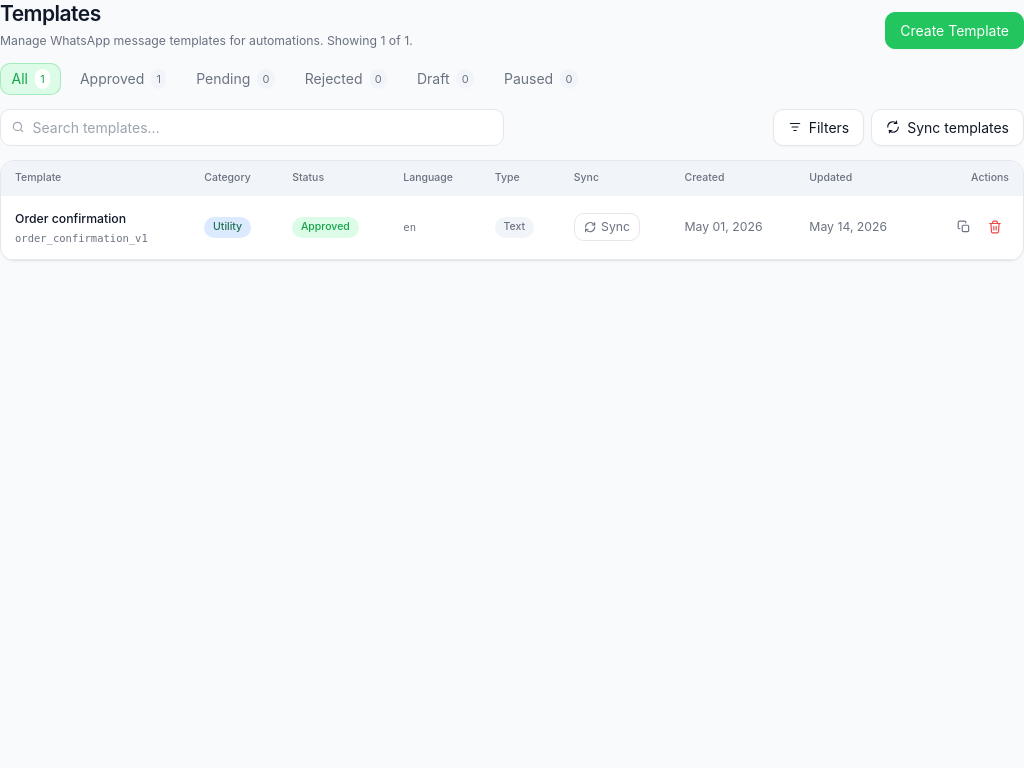
opens template details in a modal when a template row is clicked
What coordinates should you click on to do the following:
click the text "Order confirmation"
I would click on:
 (70, 218)
Its box is [15,210,126,226].
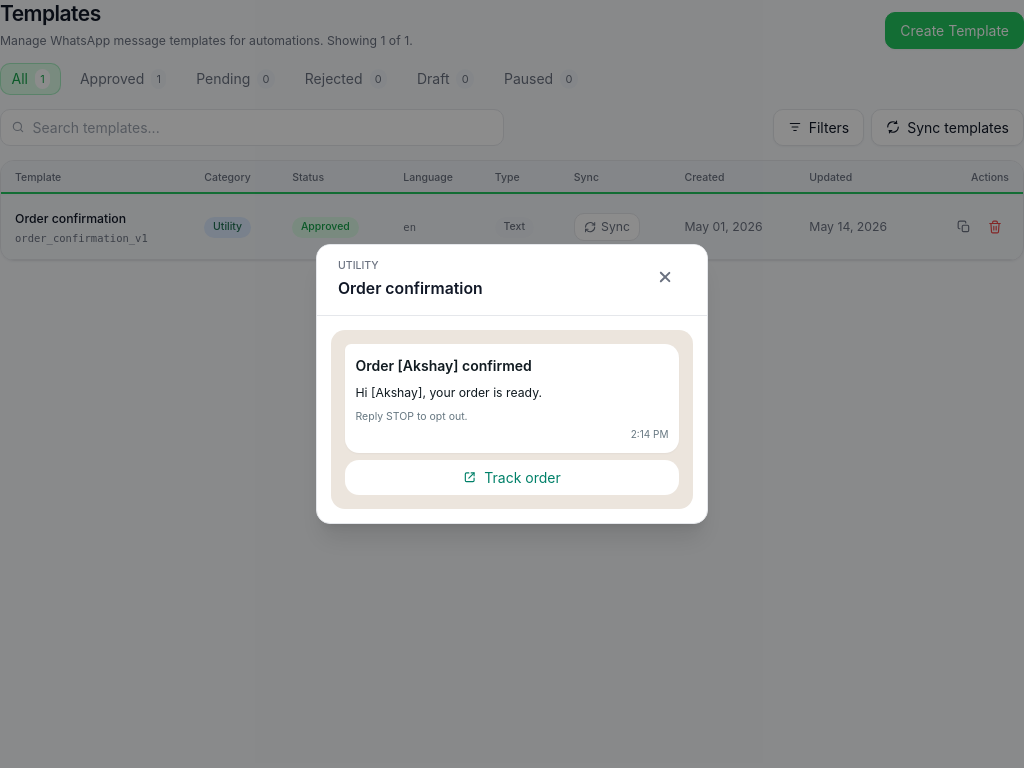
Check: the dialog "Order confirmation" is shown
Check: the text "Utility" is shown, box [338,259,379,272]
Check: the text "Order [Akshay] confirmed" is shown, box [356,357,532,374]
